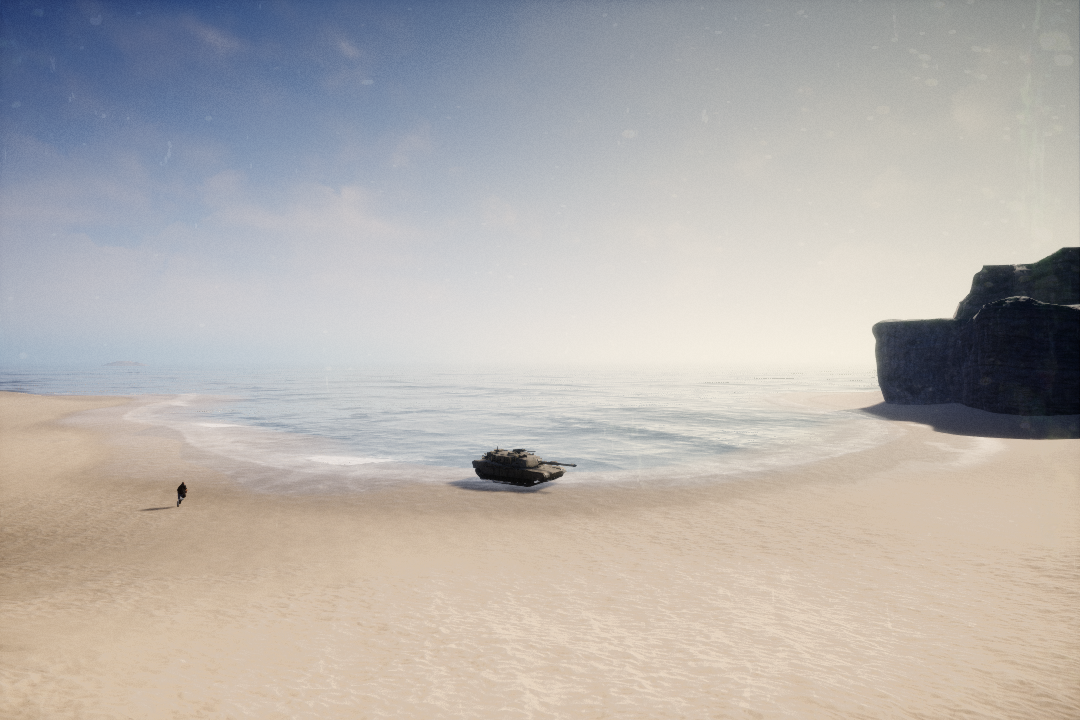person: (175, 478, 192, 509)
tank: (466, 444, 580, 488)
